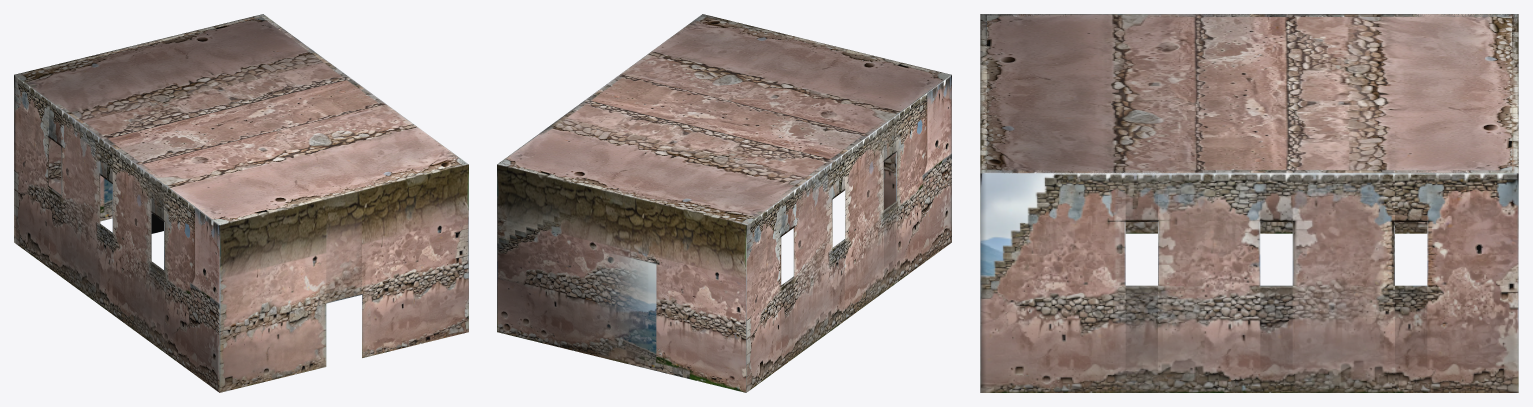
File: skin_town_80_-87.glb
3 renders of one model, left to right at view 1: azimuth 30°, elevation 25°; view 2: azimuth 150°, elevation 25°; view 3: azimuth 270°, elevation 25°, orthographic. The views are drawn at different scales.
Parts seen in each view (by area): view 1: town_80_-87; view 2: town_80_-87; view 3: town_80_-87.
Boxes of the visible parts, <box> form: town_80_-87: <box>14,14,468,392</box>; town_80_-87: <box>497,14,951,392</box>; town_80_-87: <box>980,14,1518,392</box>.
Size of the model in its own units: 14 by 9 by 20.
Materials: 1 (1 with a texture image).
